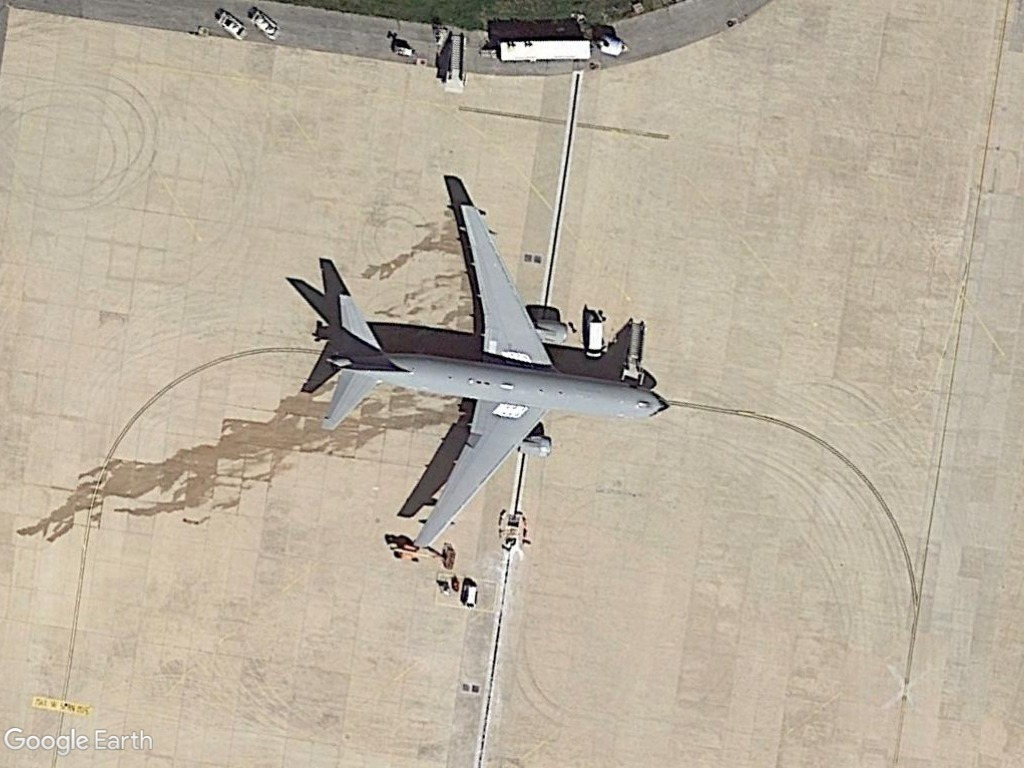airliner: (311, 188, 674, 558)
bus: (494, 36, 595, 63)
stairtruck: (441, 29, 470, 97)
